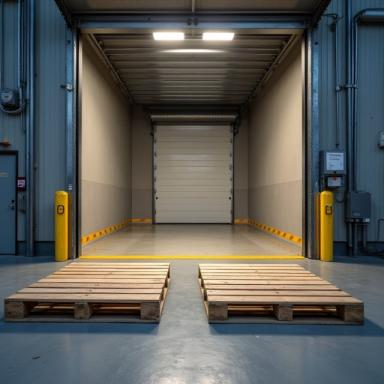pallet: (4, 262, 171, 323), (197, 264, 364, 325), (27, 301, 75, 315), (92, 302, 140, 315), (228, 304, 274, 316), (293, 305, 336, 317)
